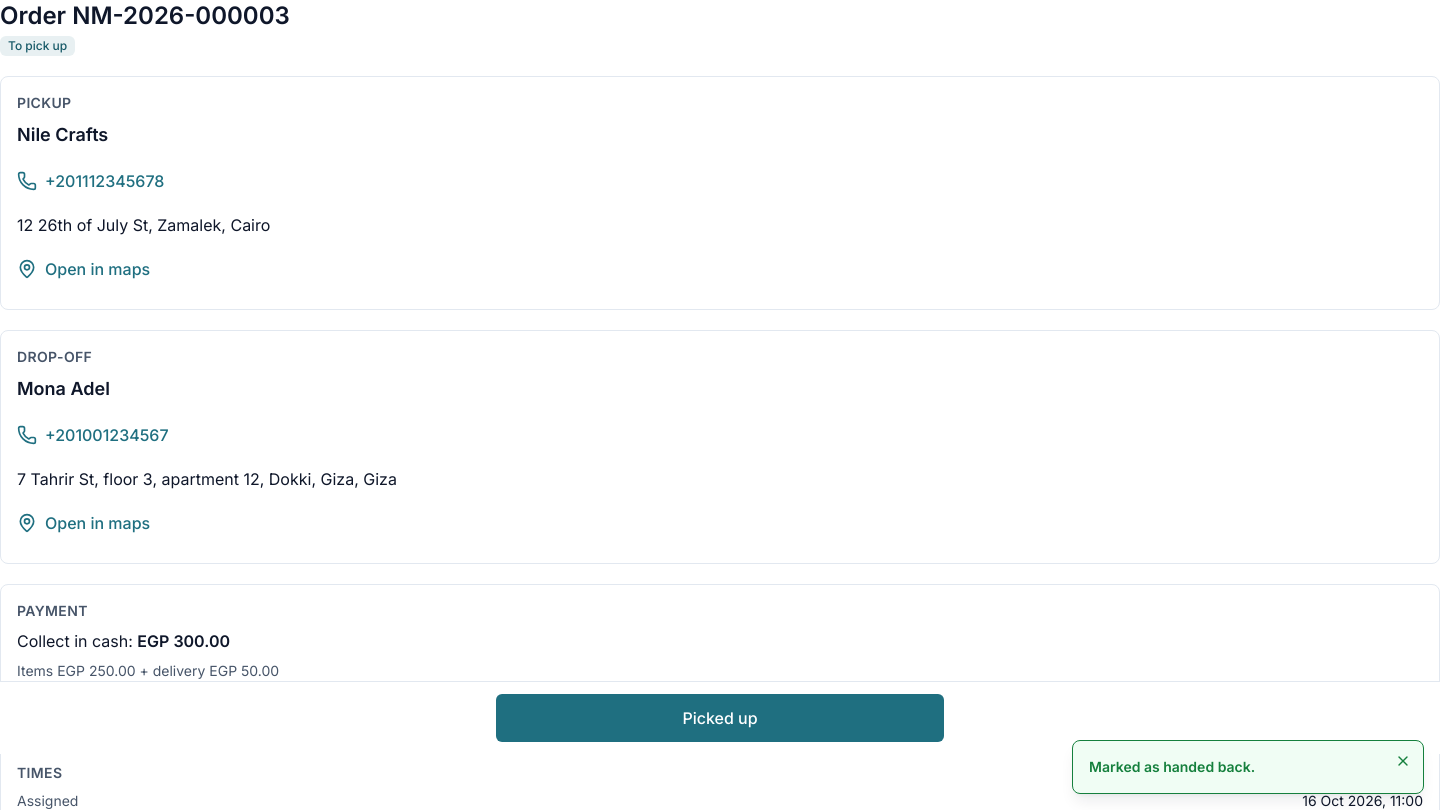
shipment (spec 04 AG-05) › SHIPMENT_INVALID_STATUS_TRANSITION reads the shipment again and explains
This screenshot has width=1440, height=810.
Click the button "Picked up" at (720, 718), box [496,694,944,742]
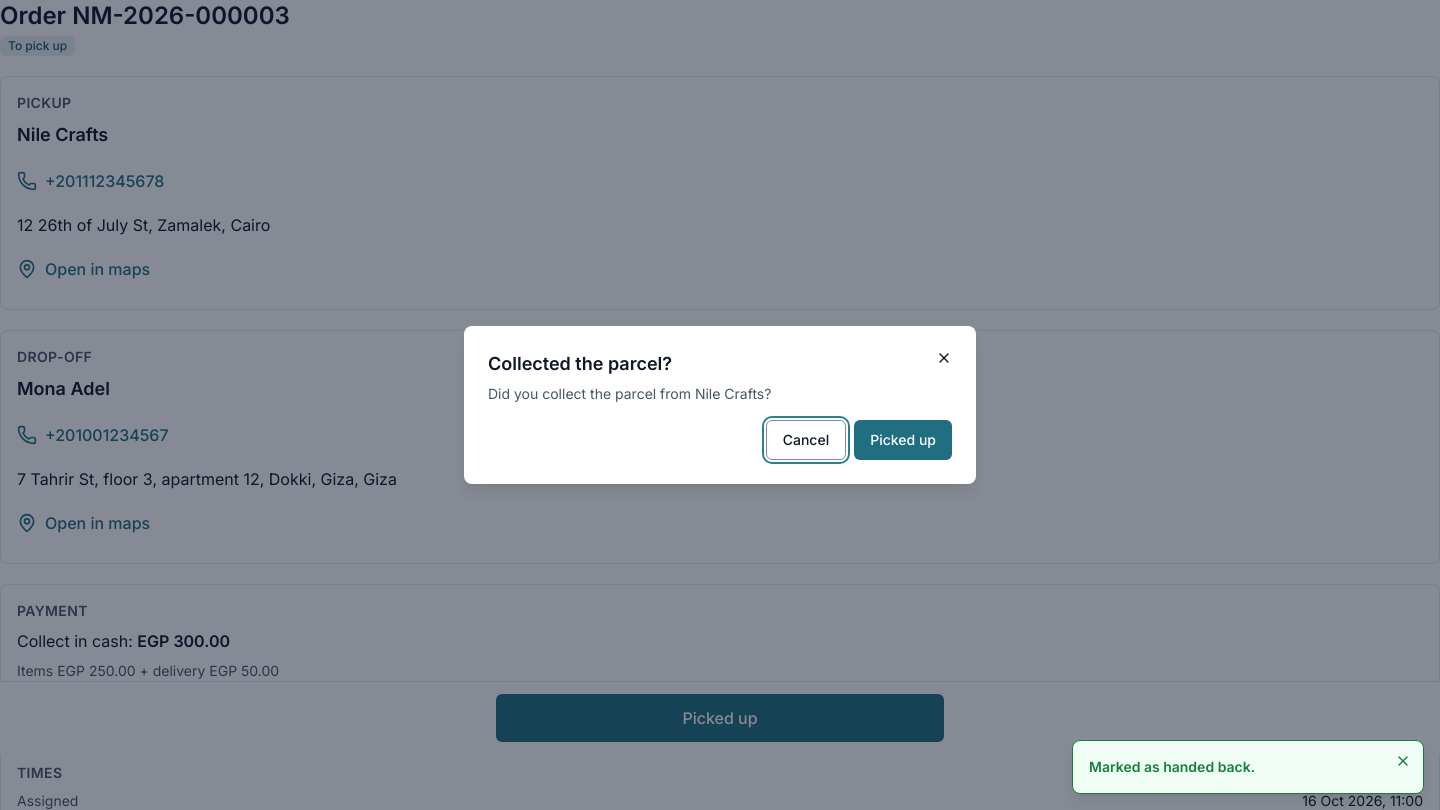
Click the button "Picked up" at (903, 440), box [854,420,952,460]
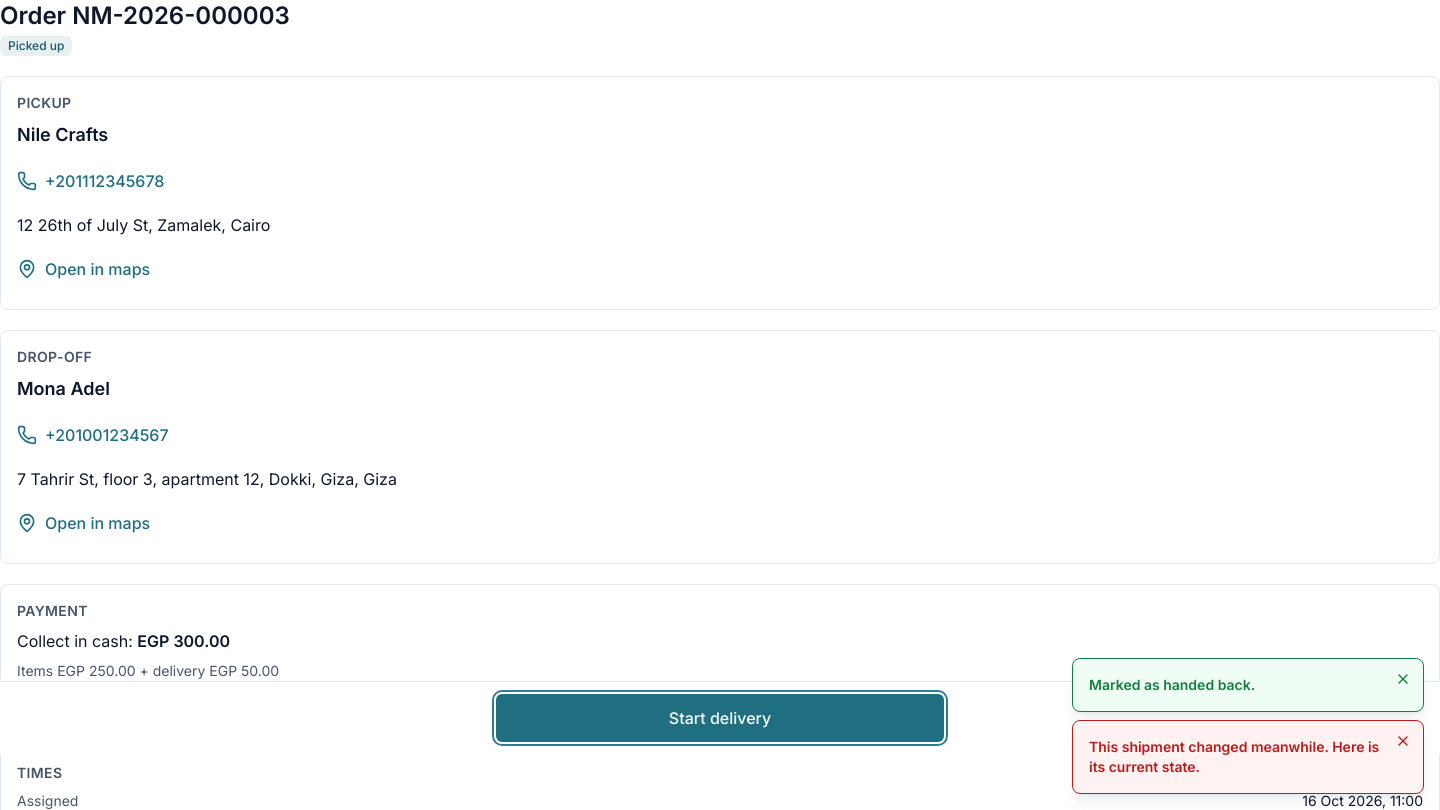
Now the text "This shipment changed meanwhile. Here is its current state." is shown, box [1089,737,1383,777]
Now the button "Start delivery" is shown, box [496,694,944,742]
